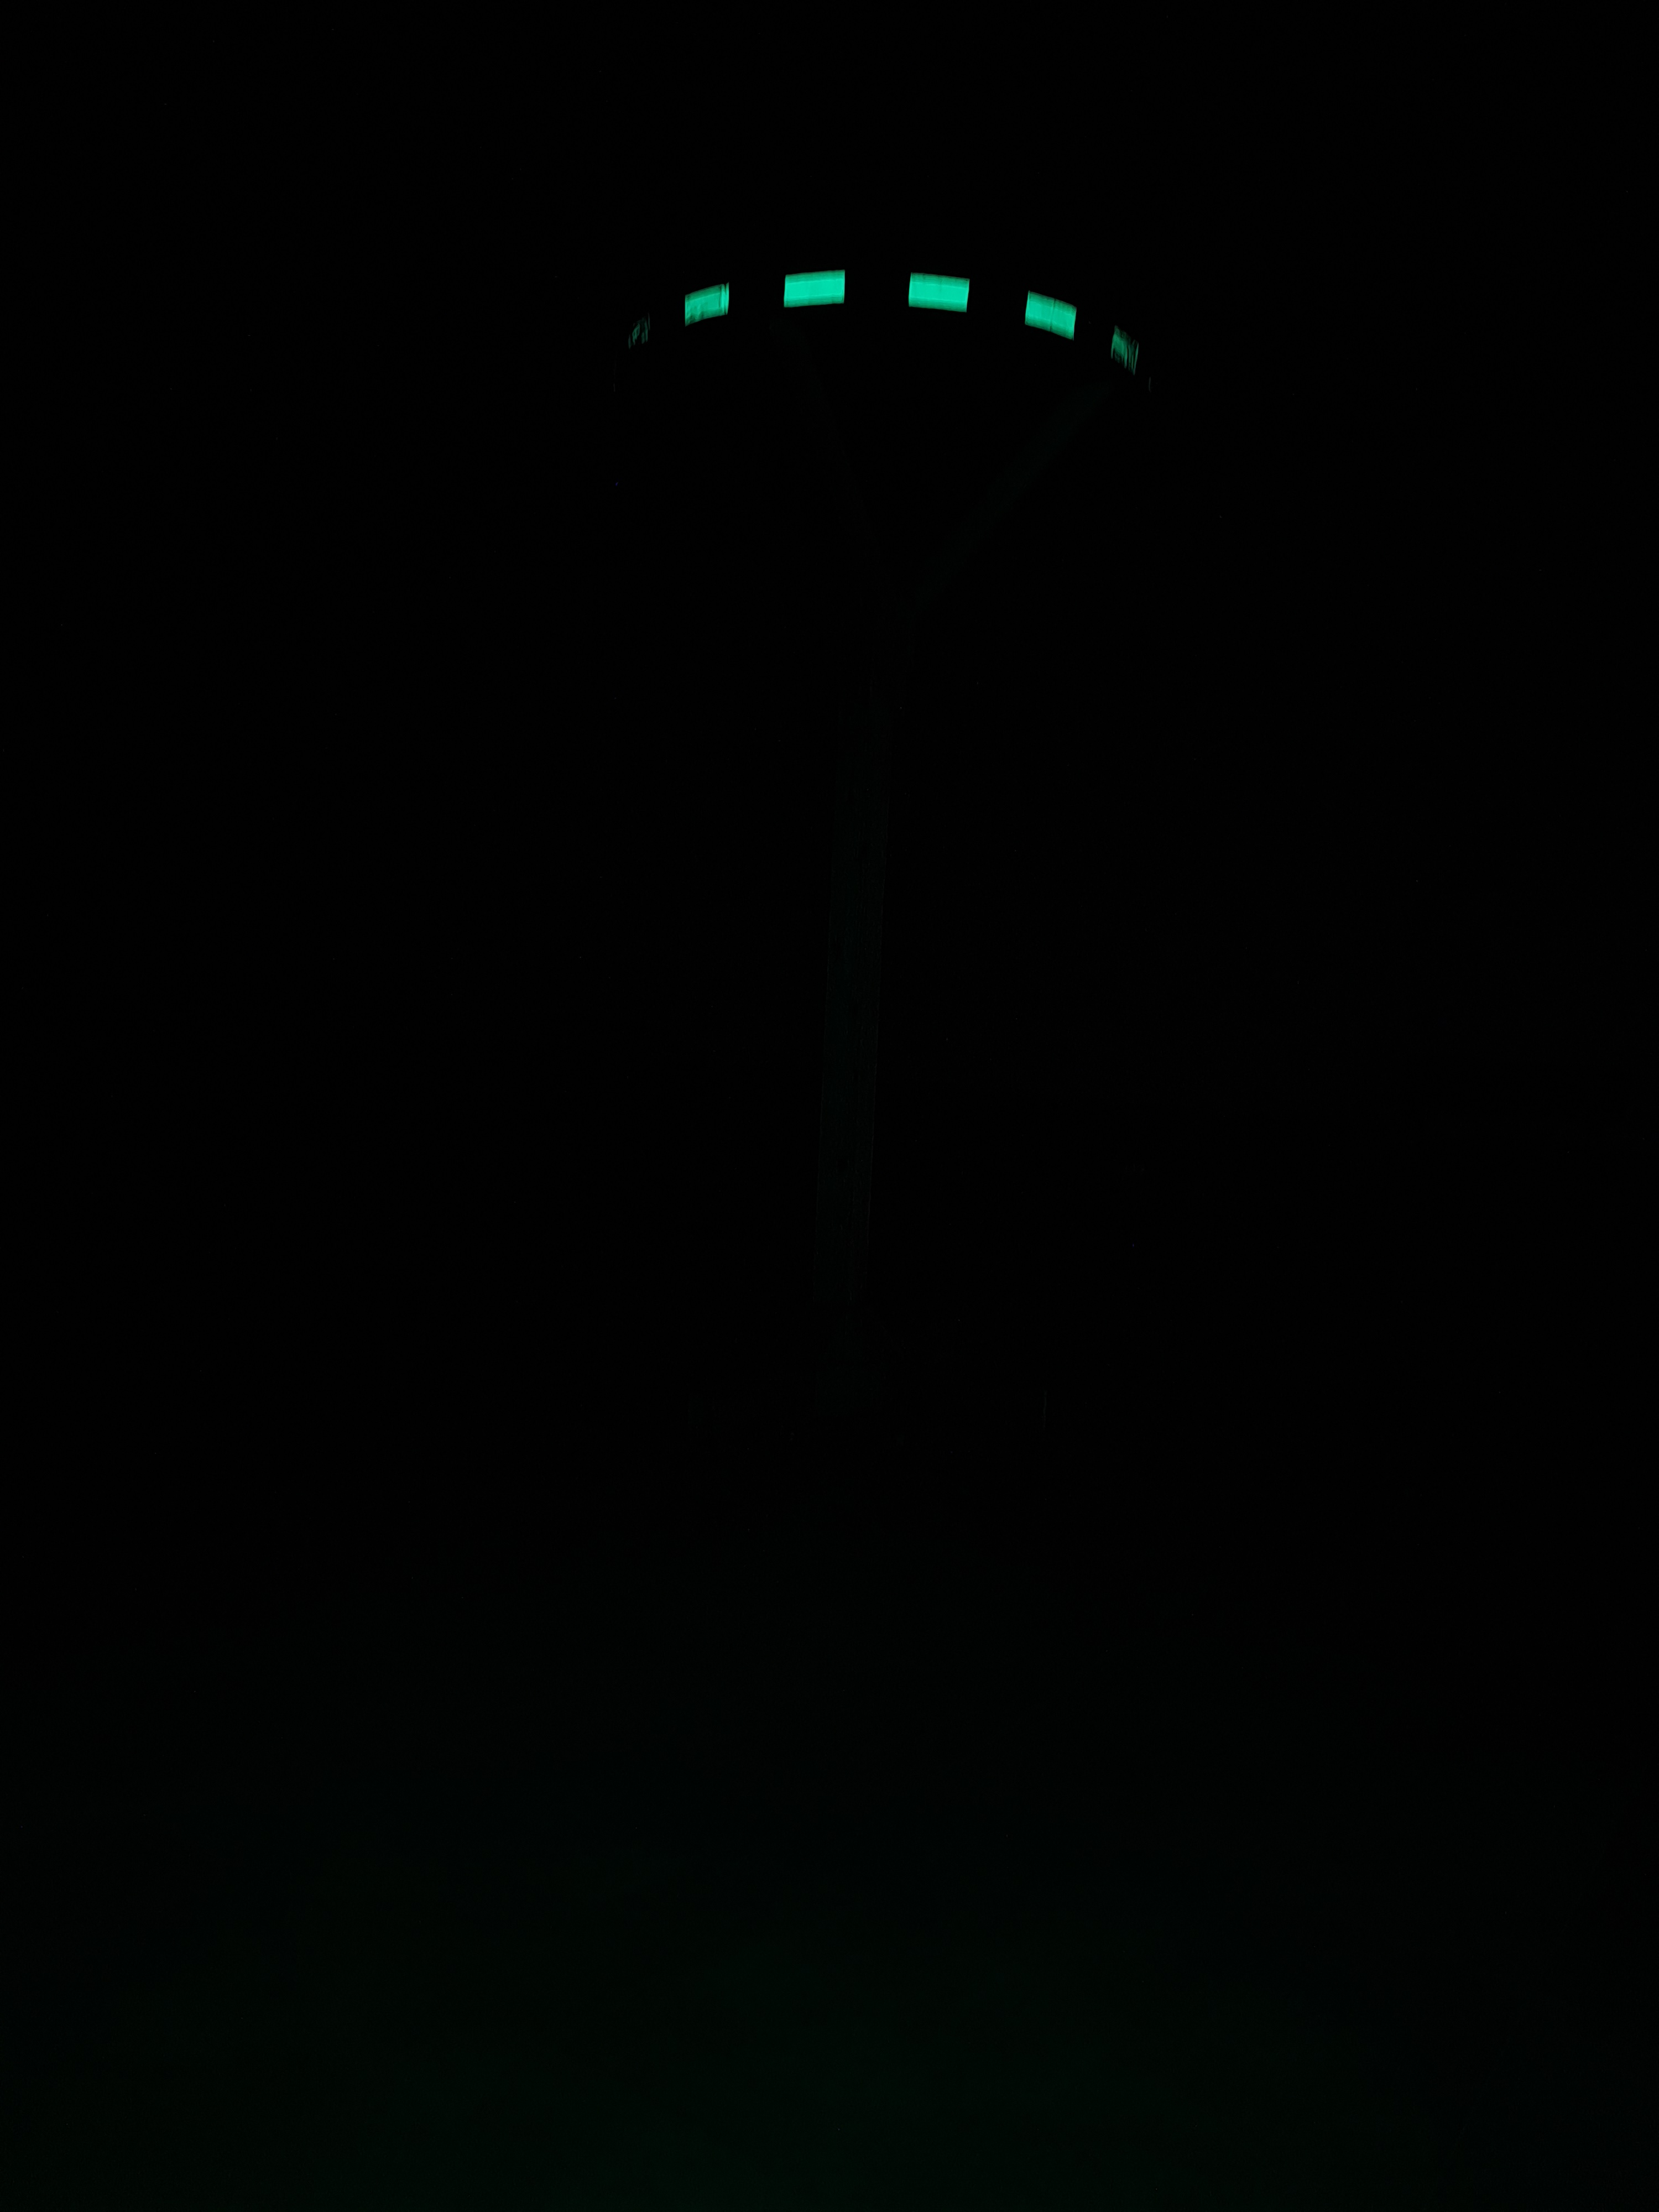hoop: (617, 270, 1141, 376)
